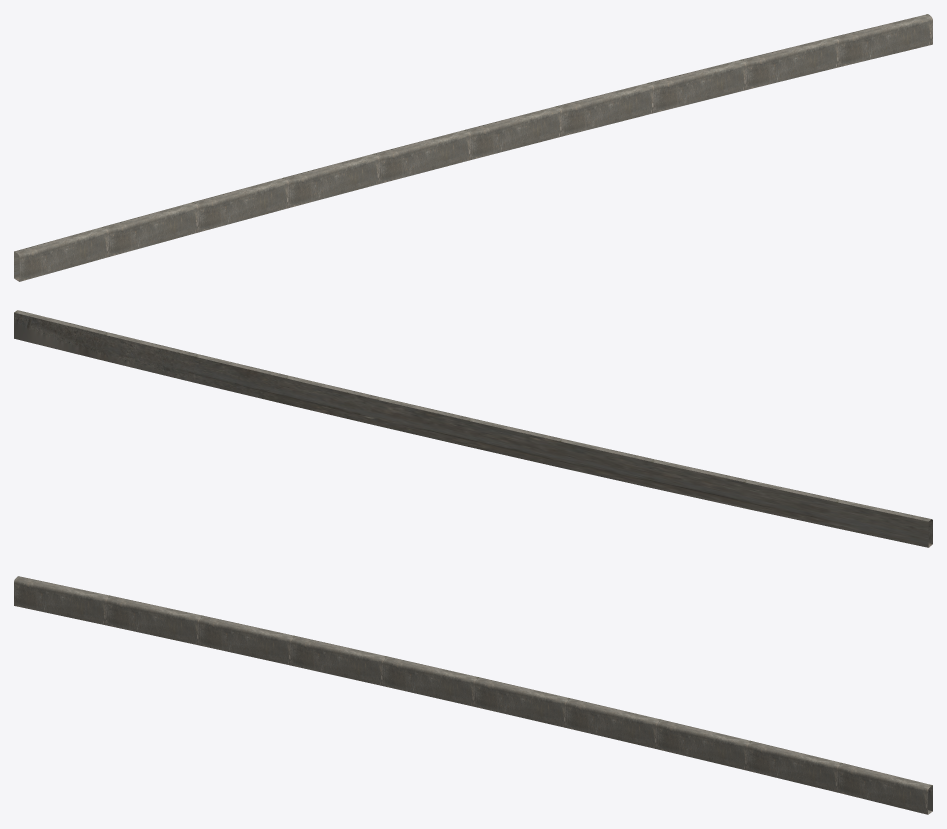
The model's file is SM_Curb_15.glb.
3 renders of one model, top to bottom at view 1: azimuth 30°, elevation 25°; view 2: azimuth 150°, elevation 25°; view 3: azimuth 330°, elevation 25°, orthographic. The views are drawn at different scales.
Visible parts, largest first — view 1: SM_Curb_15; view 2: SM_Curb_15; view 3: SM_Curb_15.
Part boxes in pixels (<box>): SM_Curb_15: <box>14,14,932,281</box>; SM_Curb_15: <box>14,310,932,547</box>; SM_Curb_15: <box>14,576,932,814</box>.
Bounding box in the file's own units: 2706 × 75.03 × 101.
1 material, 1 textured.
